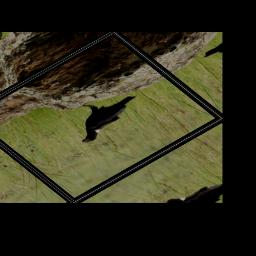Crow: (54, 83, 152, 146)
